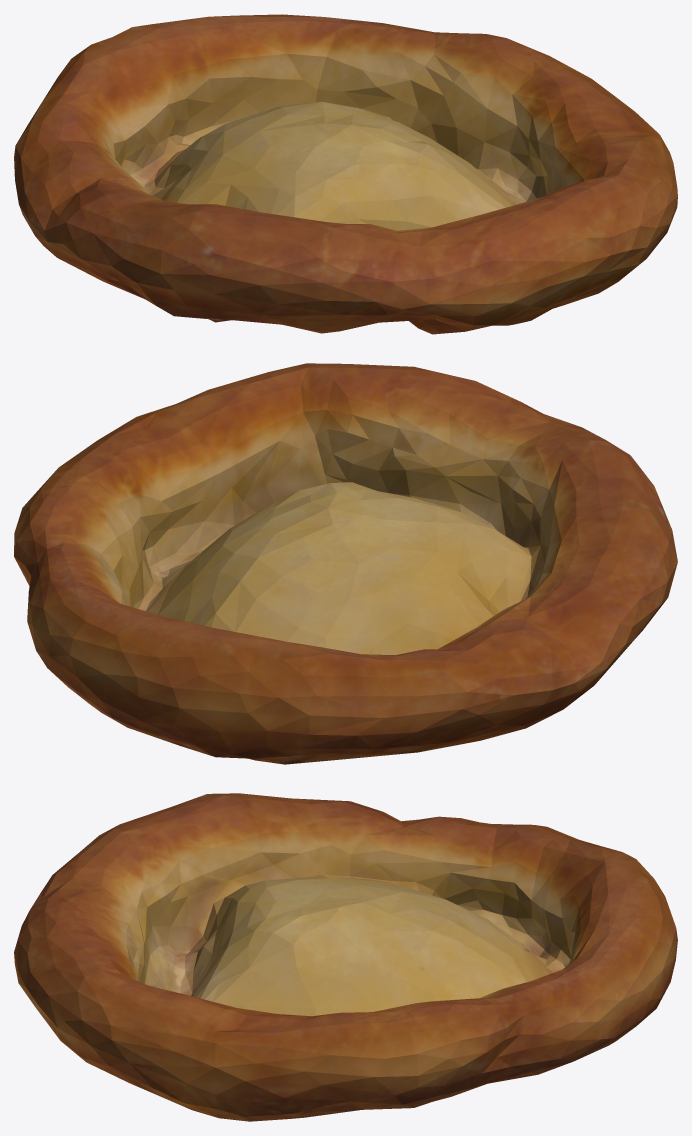
3 renders of one model, top to bottom at view 1: azimuth 30°, elevation 25°; view 2: azimuth 150°, elevation 25°; view 3: azimuth 270°, elevation 25°, orthographic. The views are drawn at different scales.
Visible parts, largest first — view 1: Kcherl_2k_2k; view 2: Kcherl_2k_2k; view 3: Kcherl_2k_2k.
Part boxes in pixels (<box>): Kcherl_2k_2k: <box>14,14,677,334</box>; Kcherl_2k_2k: <box>14,363,677,764</box>; Kcherl_2k_2k: <box>14,793,677,1121</box>.
Bounding box in the file's own units: 0.1081 × 0.0261 × 0.1179.
1 material, 1 textured.
